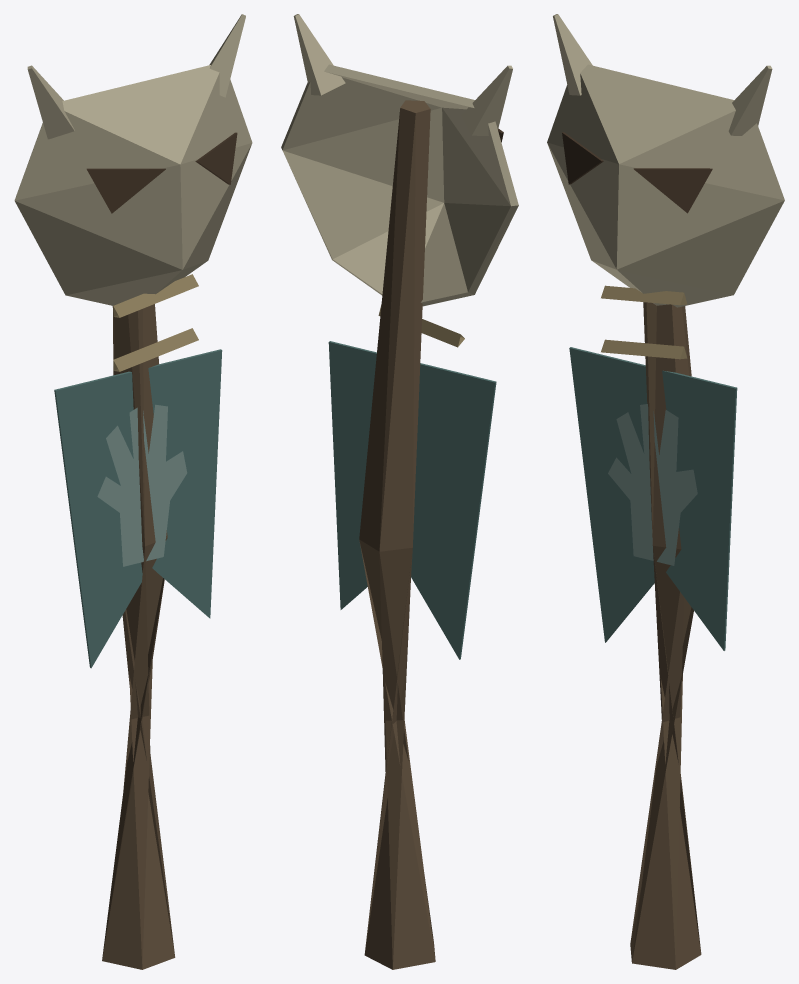
The model's file is territory_totem.glb.
3 views of the same model, side by side, from view 1: azimuth 30°, elevation 25°; view 2: azimuth 150°, elevation 25°; view 3: azimuth 330°, elevation 25° (orthographic).
Parts seen in each view (by area): view 1: Body_territory_totem.001; view 2: Body_territory_totem.001; view 3: Body_territory_totem.001.
Boxes of the visible parts, <box> form: Body_territory_totem.001: <box>14,14,252,969</box>; Body_territory_totem.001: <box>281,14,518,969</box>; Body_territory_totem.001: <box>547,14,784,969</box>.
Bounding box in the file's own units: 0.6 × 2.21 × 0.2837.
